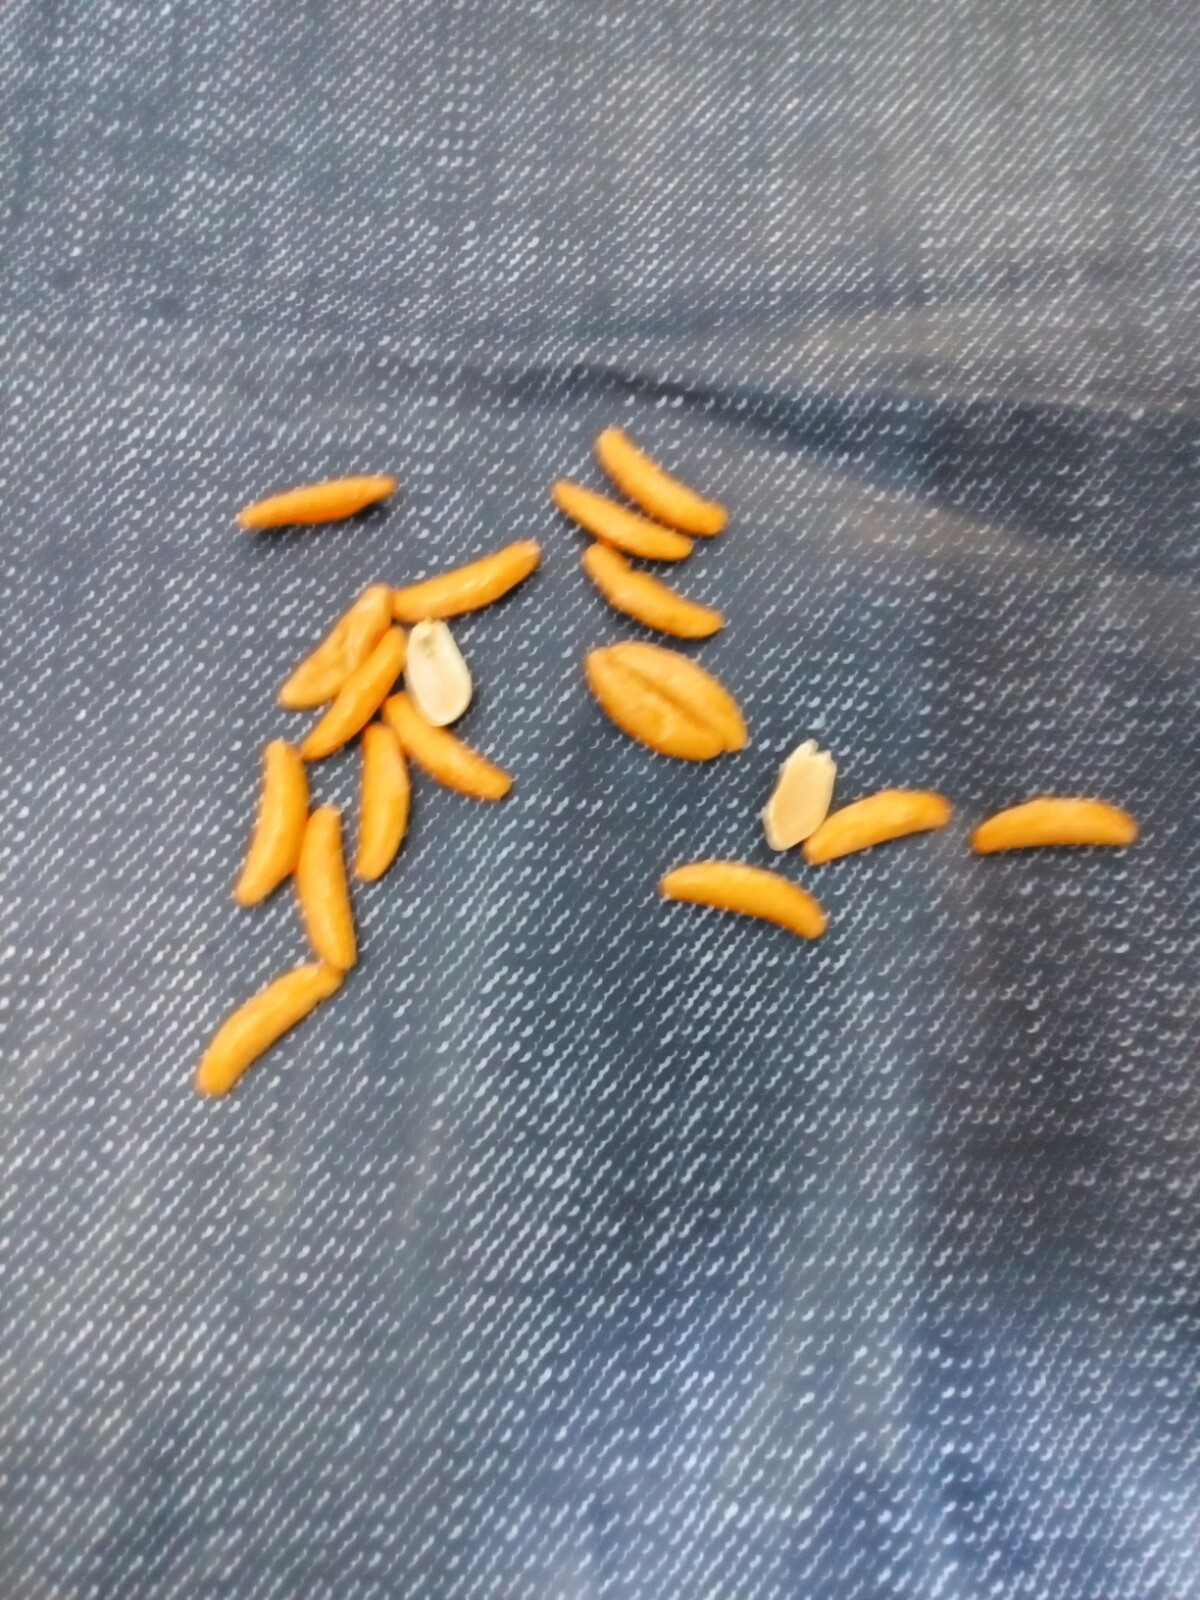peanut: (753, 729, 841, 855), (401, 606, 475, 733)
